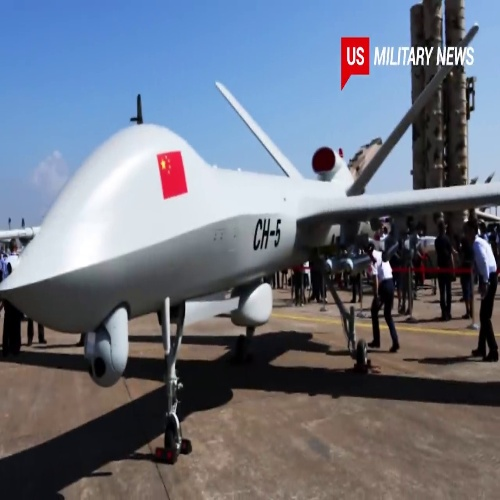uav168: (4, 79, 499, 449)
